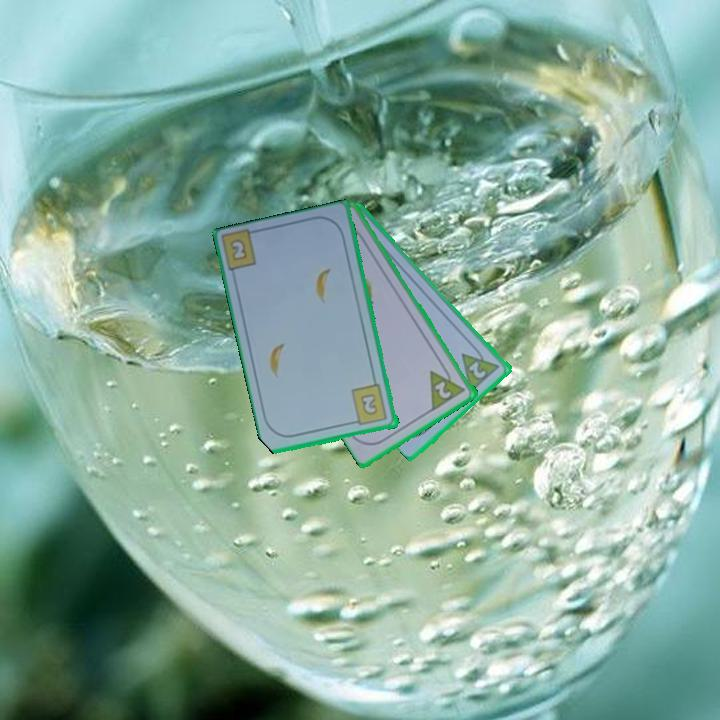2b: (348, 381, 390, 428), (226, 235, 251, 264)
2p: (426, 360, 469, 413), (465, 358, 490, 382)
